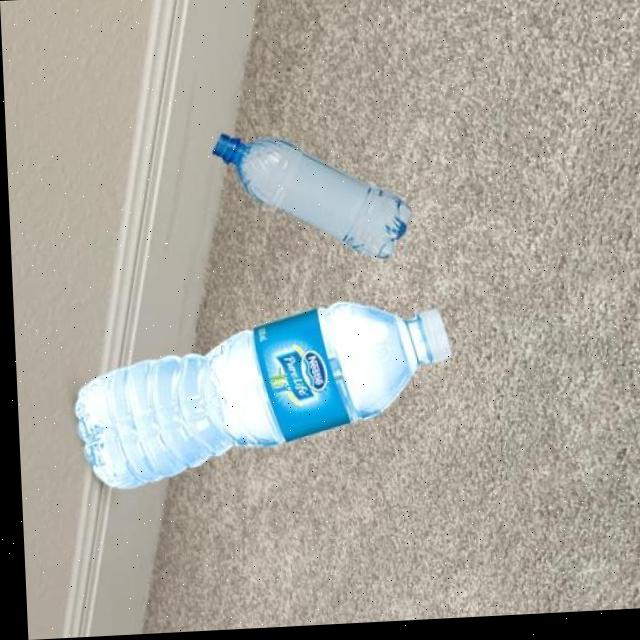bottle: (65, 298, 452, 494), (207, 127, 410, 270)
